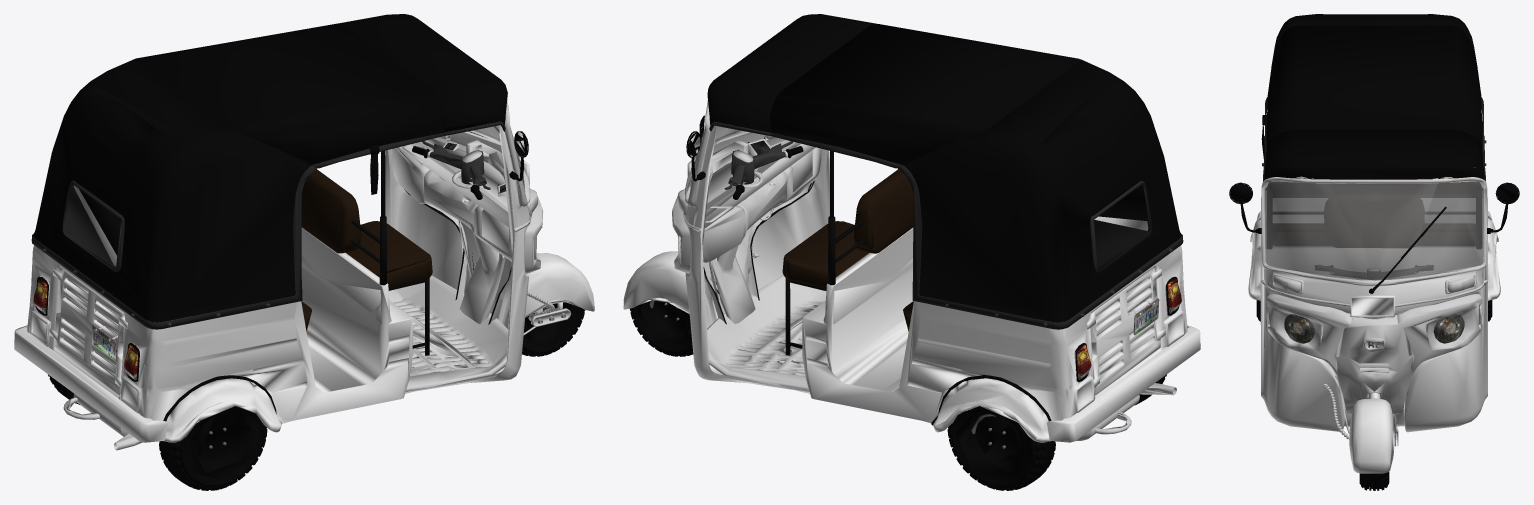
File: tuktuk-web.glb
3 renders of one model, left to right at view 1: azimuth 30°, elevation 25°; view 2: azimuth 150°, elevation 25°; view 3: azimuth 270°, elevation 25°, orthographic. The views are drawn at different scales.
Visible parts, largest first — view 1: Cube.240 (C-Cube.240_Defintion); view 2: Cube.240 (C-Cube.240_Defintion); view 3: Cube.240 (C-Cube.240_Defintion).
Part boxes in pixels (x1=…): Cube.240 (C-Cube.240_Defintion): x1=14, y1=14, x2=594, y2=490; Cube.240 (C-Cube.240_Defintion): x1=623, y1=14, x2=1200, y2=490; Cube.240 (C-Cube.240_Defintion): x1=1229, y1=14, x2=1519, y2=490.
Size of the model in its own units: 1 by 0.6499 by 0.5585.
30 materials, 3 textured.
